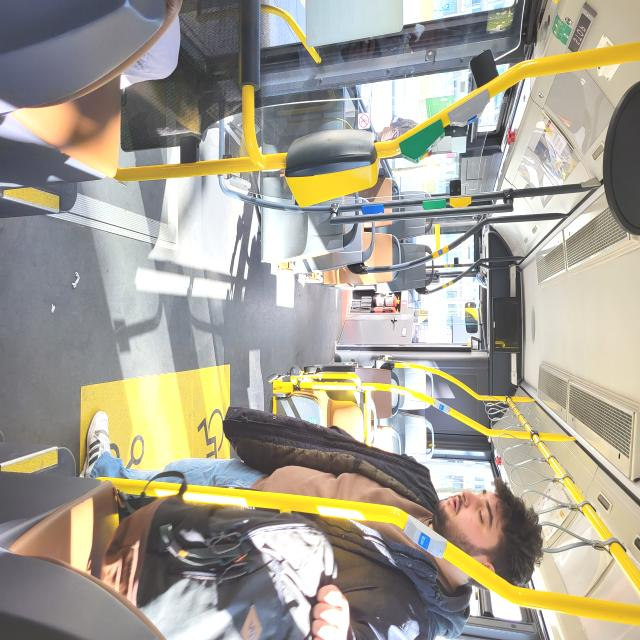asiento-libre: (333, 319, 377, 426), (451, 366, 494, 430), (435, 319, 474, 386), (303, 276, 343, 341), (344, 275, 380, 343), (292, 320, 331, 380), (468, 275, 508, 333), (433, 275, 468, 331), (478, 320, 500, 354)
